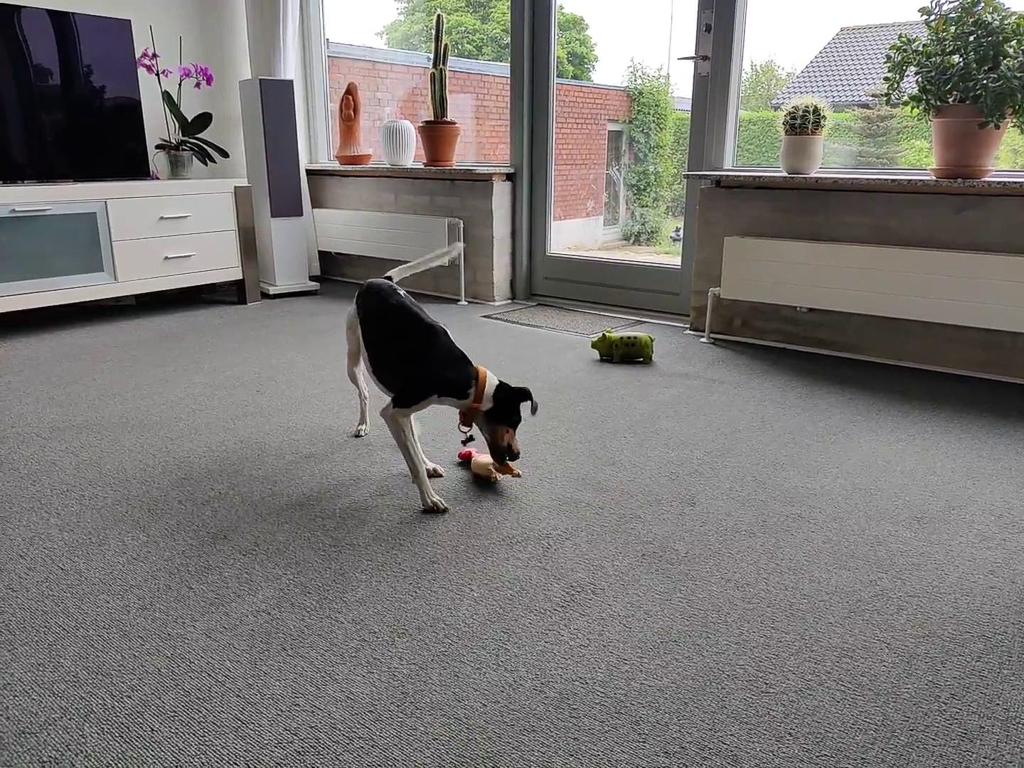Dog: (320, 238, 575, 519)
Humanoid: (330, 80, 377, 156), (664, 220, 688, 250)
